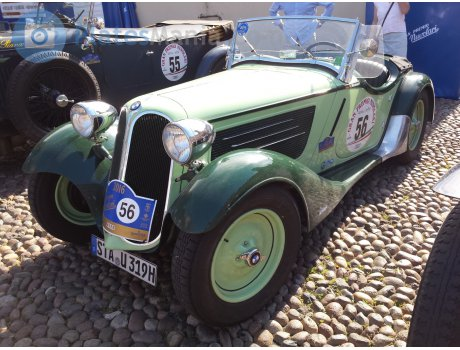License Plates: (119, 251, 149, 278), (98, 241, 103, 250)
